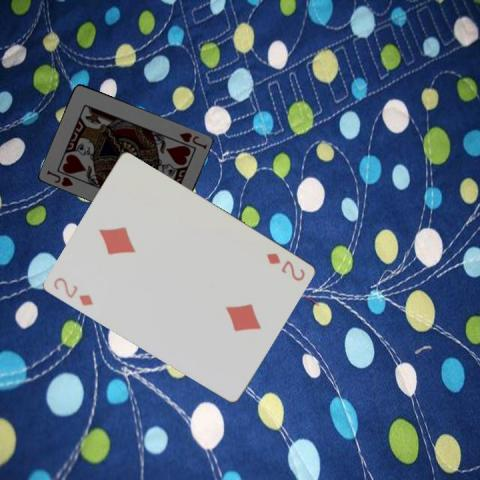2d: (49, 274, 94, 307), (263, 249, 306, 283)
Jh: (176, 129, 208, 151), (44, 167, 76, 188)
